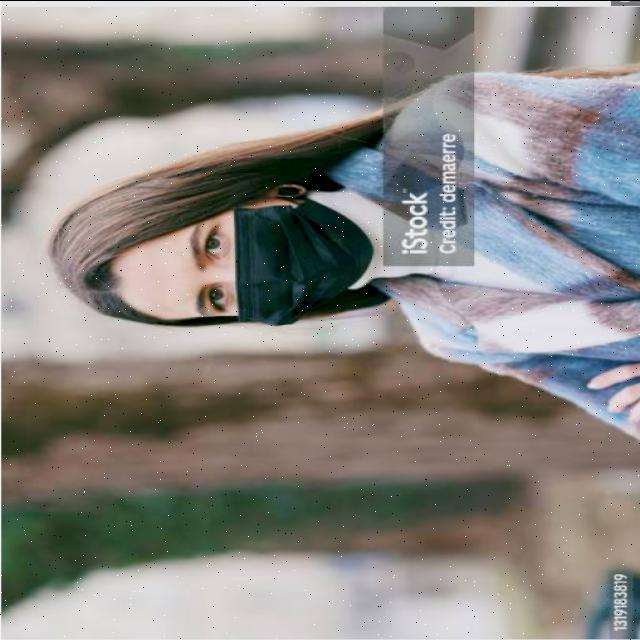face_mask: (120, 184, 370, 328)
